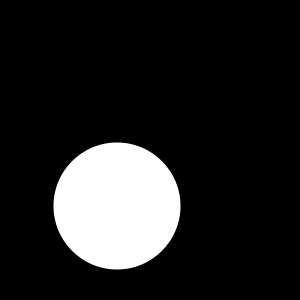rectangle: (54, 142, 180, 270)
